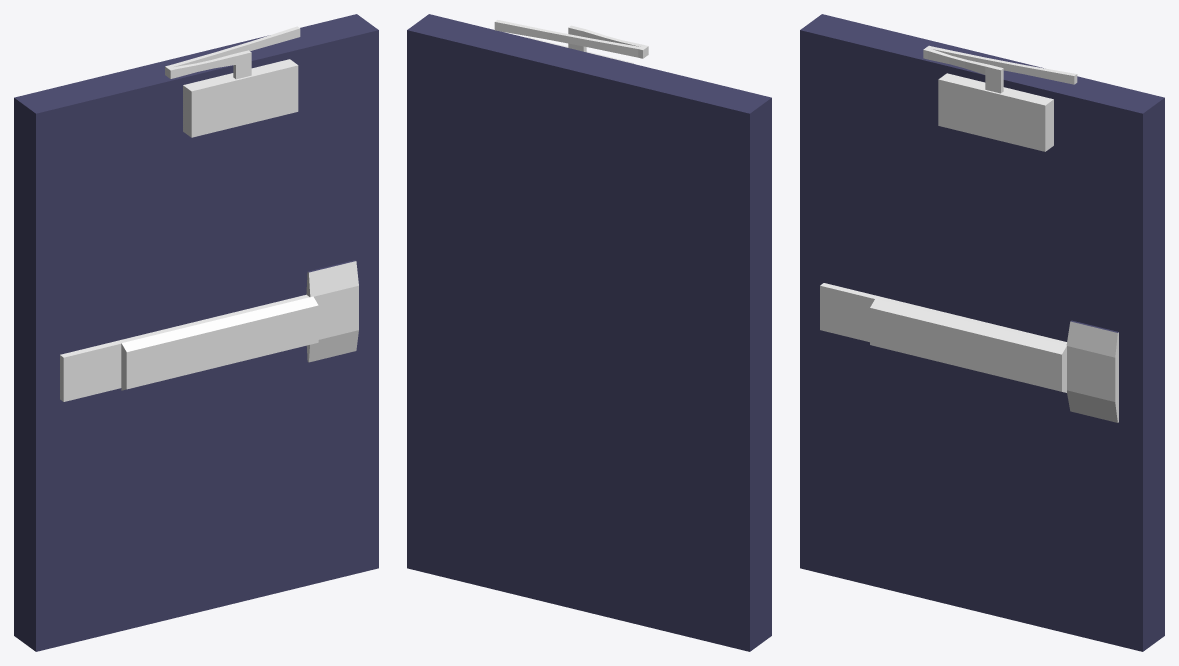
File: SchoolDoor.fbx
The picture shows the model from 3 angles, left to right: view 1: azimuth 30°, elevation 25°; view 2: azimuth 150°, elevation 25°; view 3: azimuth 330°, elevation 25°; orthographic projection.
Parts seen in each view (by area): view 1: Cube; view 2: Cube; view 3: Cube.
Boxes of the visible parts, box(x1,y1,x2,y2) form: Cube: box(14, 14, 378, 651); Cube: box(407, 14, 771, 651); Cube: box(800, 14, 1164, 651).
Bounding box in the file's own units: 400 × 618 × 65.45.
